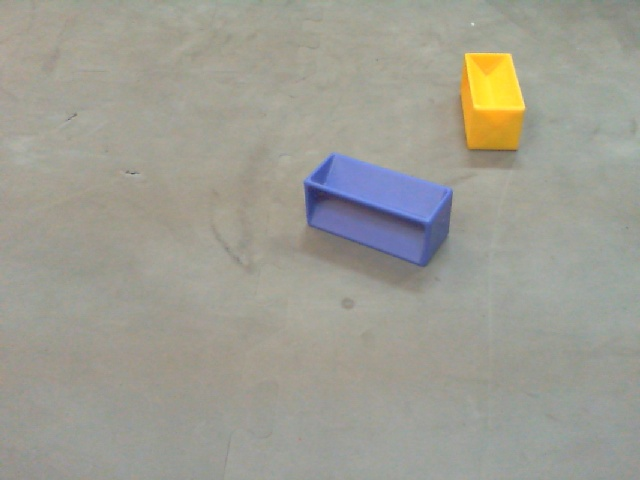BlueSample: (302, 150, 457, 269)
YellowSample: (457, 50, 535, 149)
